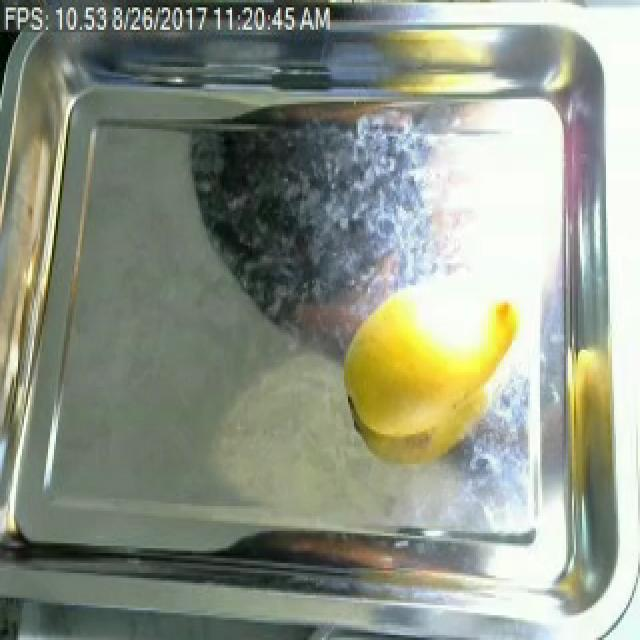fruit: (330, 280, 522, 457), (462, 5, 592, 102)
